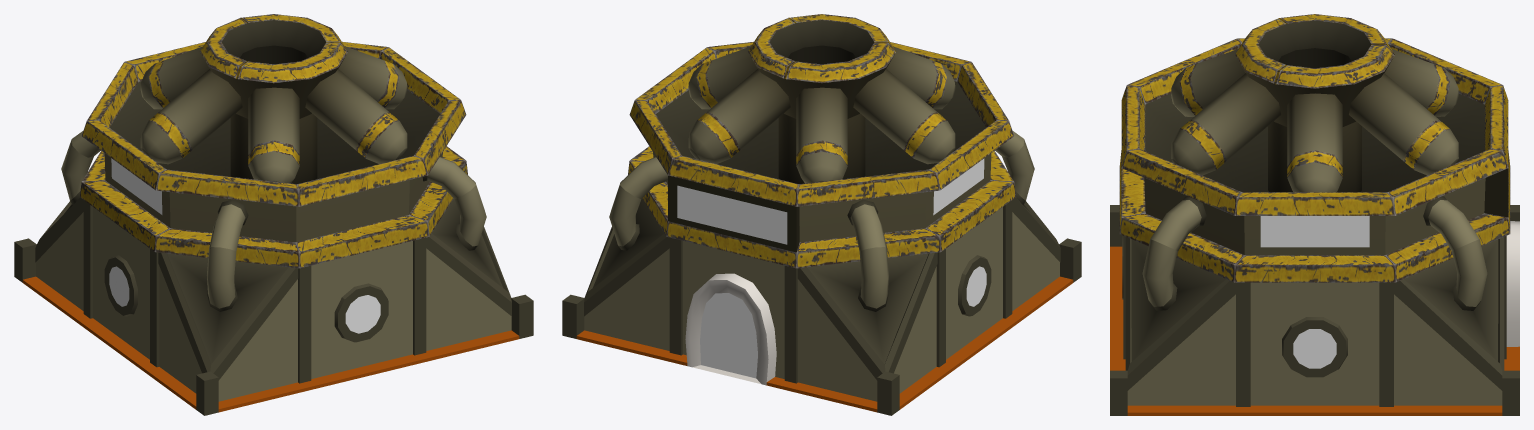
The model's file is Centrifuge.Folktails.fbx.
3 views of the same model, side by side, from view 1: azimuth 30°, elevation 25°; view 2: azimuth 150°, elevation 25°; view 3: azimuth 270°, elevation 25° (orthographic). The views are drawn at different scales.
Visible parts, largest first — view 1: Centrifuge_Folktails, _Container_Animation_009; view 2: Centrifuge_Folktails, _Container_Animation_009; view 3: Centrifuge_Folktails, _Container_Animation_009.
Boxes of the visible parts, x1=… form: Centrifuge_Folktails: x1=14, y1=41, x2=533, y2=415; _Container_Animation_009: x1=140, y1=14, x2=407, y2=184; Centrifuge_Folktails: x1=562, y1=41, x2=1081, y2=415; _Container_Animation_009: x1=688, y1=14, x2=955, y2=184; Centrifuge_Folktails: x1=1110, y1=38, x2=1519, y2=415; _Container_Animation_009: x1=1171, y1=14, x2=1458, y2=192.
Bounding box in the file's own units: 300 × 230 × 300.
